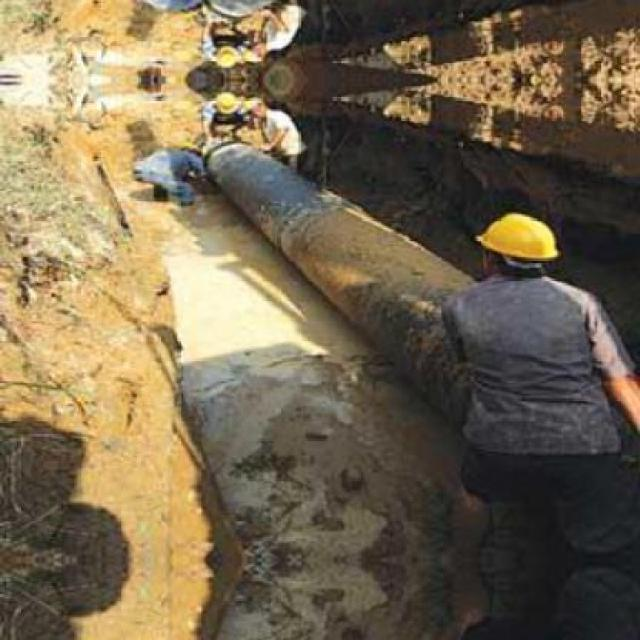helmet: (472, 208, 562, 278)
